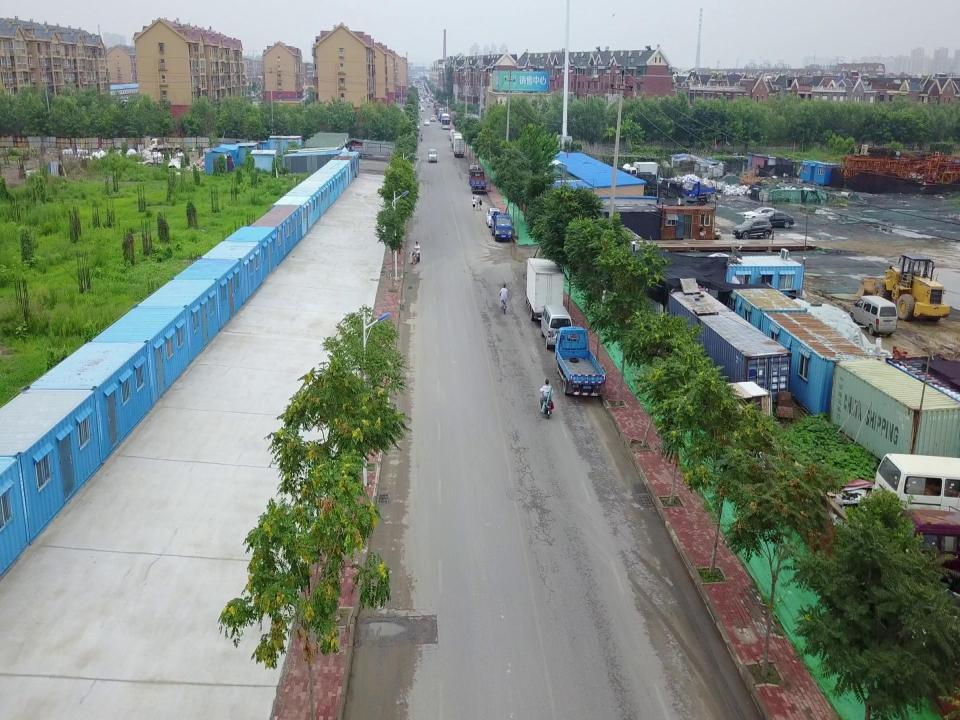bus: (440, 113, 450, 129)
car: (731, 217, 773, 240), (757, 210, 795, 229), (741, 206, 781, 224), (486, 207, 501, 229), (413, 121, 420, 131), (424, 118, 430, 127), (430, 115, 436, 122)
truck: (554, 325, 607, 397), (522, 256, 565, 322), (622, 161, 658, 184), (682, 179, 716, 203), (490, 213, 514, 241), (149, 138, 180, 156), (468, 170, 488, 195), (468, 164, 484, 188), (453, 135, 465, 159)
van: (871, 450, 960, 522), (893, 504, 960, 580), (850, 294, 898, 336), (540, 303, 574, 349), (428, 148, 438, 164)
